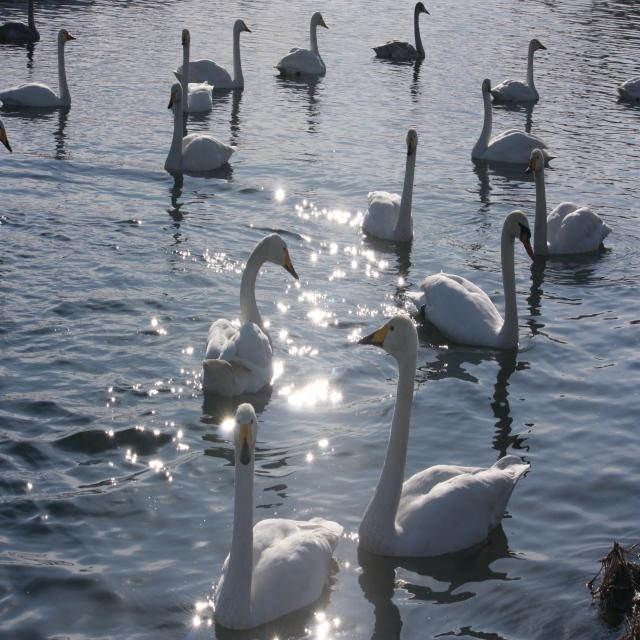bird: (349, 316, 532, 562), (205, 403, 342, 630), (196, 232, 302, 426), (411, 207, 535, 368), (471, 67, 555, 178), (0, 21, 81, 133), (167, 11, 251, 101), (364, 133, 420, 253), (518, 195, 616, 260), (484, 39, 551, 122), (367, 2, 434, 82), (273, 14, 332, 84), (0, 0, 43, 61)
